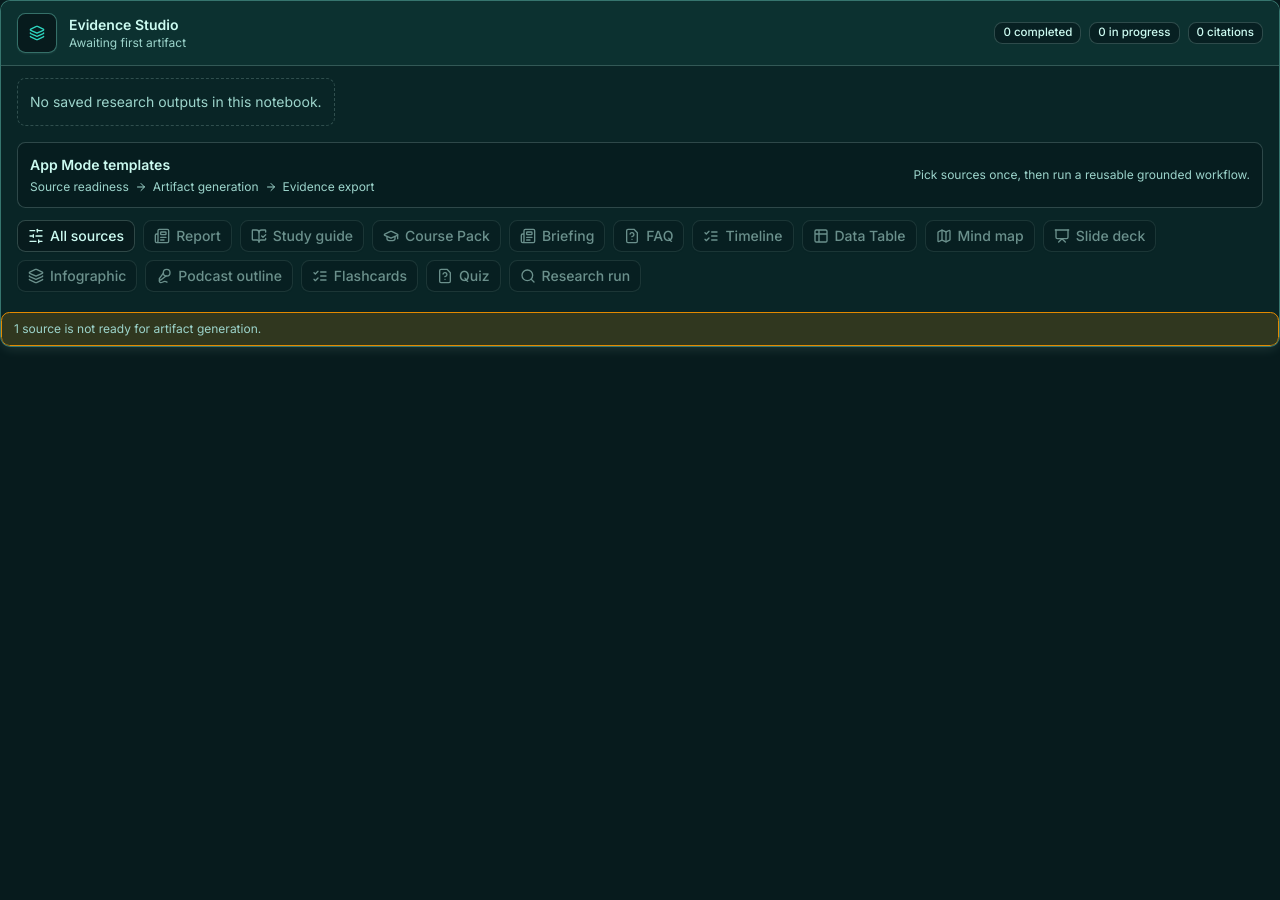
it: ArtifactRail › blocks artifact generation when a scoped source has no extracted text
The image size is (1280, 900).
Click the button with aria-label "Artifact sources: All sources": (76, 236) [17, 220, 135, 252]
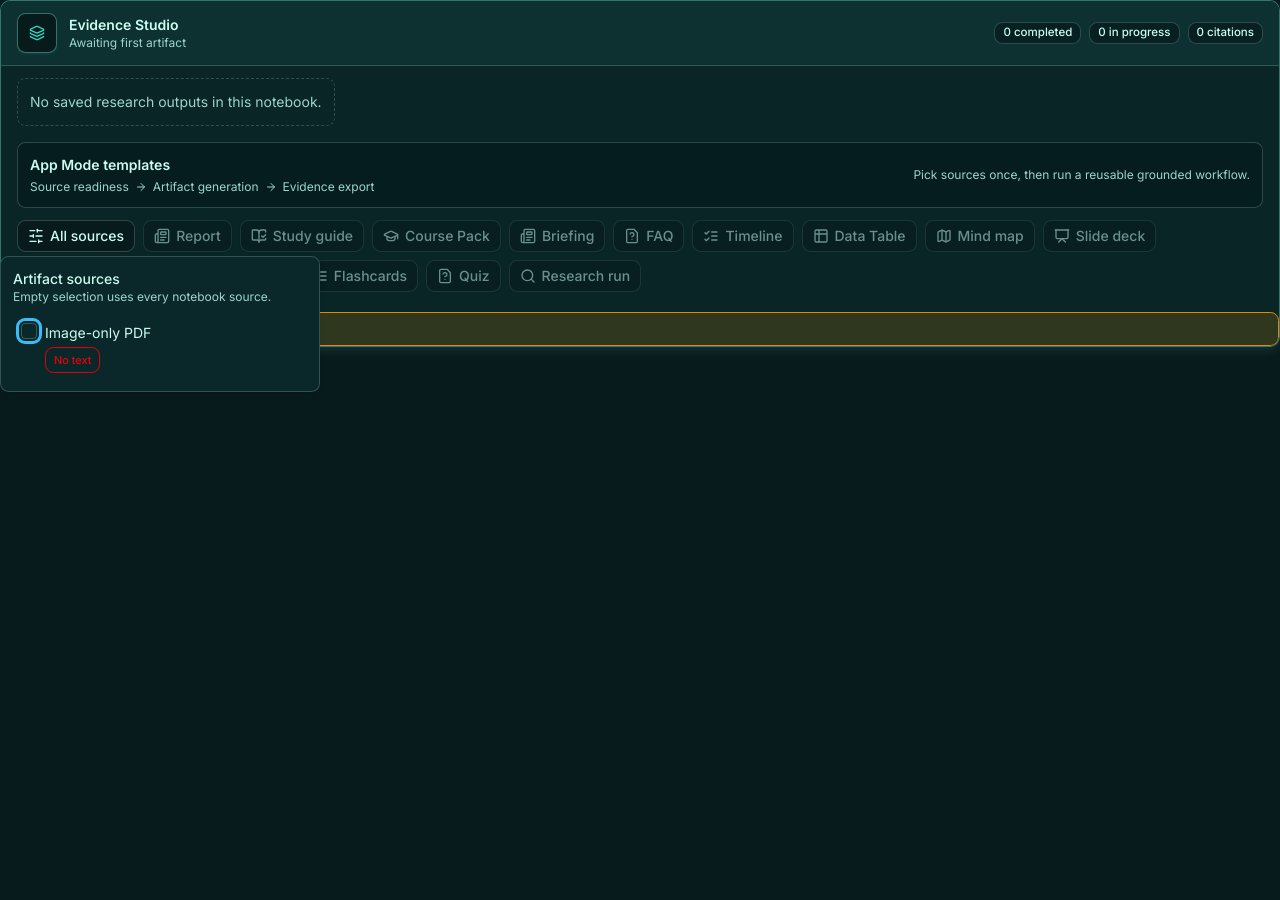
Check: the text "1 source is not ready for artifact generation." is shown, box [1, 312, 1279, 346]
Check: the text "No text" is shown, box [45, 347, 100, 373]
